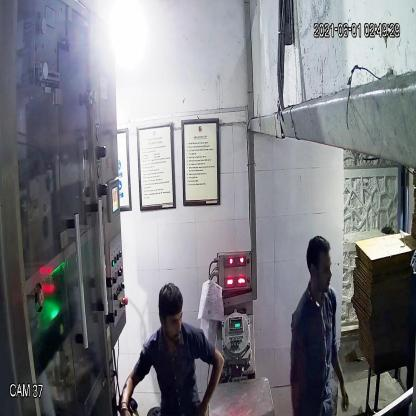no_goggles: (158, 308, 186, 330), (307, 257, 336, 278)
